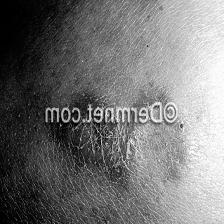Unclassified: (58, 126, 188, 186)
